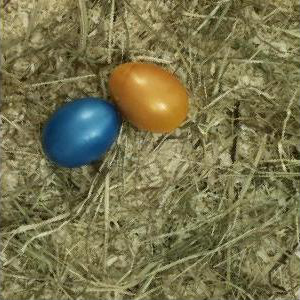egg: (107, 62, 188, 133), (43, 99, 121, 167)
